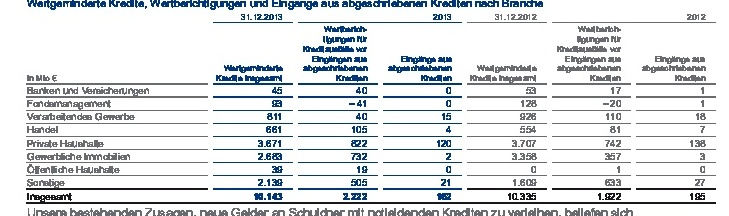table: (0, 0, 729, 216)
